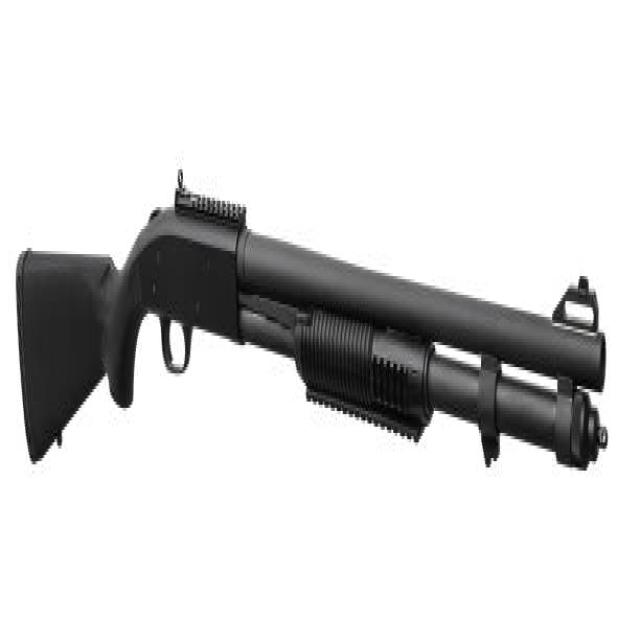rifle: (10, 152, 621, 509)
